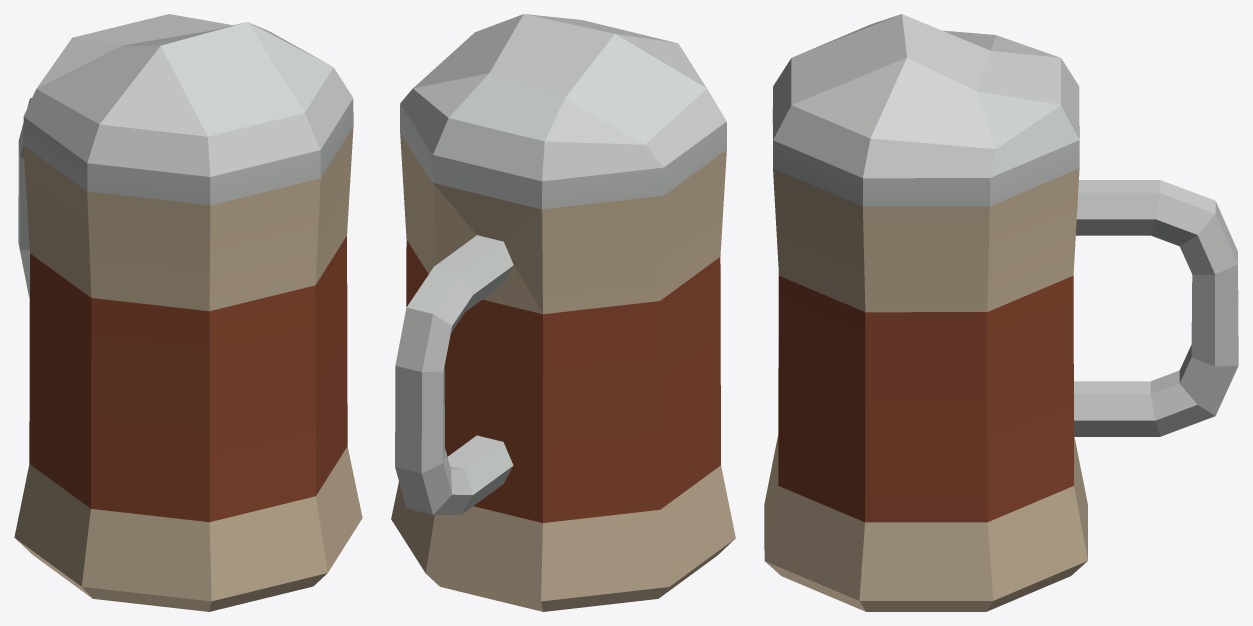
Rendered from SM_Prop_Bar_Glass_04.obj.
The picture shows the model from 3 angles, left to right: view 1: azimuth 30°, elevation 25°; view 2: azimuth 150°, elevation 25°; view 3: azimuth 270°, elevation 25°; orthographic projection.
Parts seen in each view (by area): view 1: SM_Prop_Bar_Glass_04_0; view 2: SM_Prop_Bar_Glass_04_0; view 3: SM_Prop_Bar_Glass_04_0.
Part boxes in pixels (x1,y1,x2,y2): SM_Prop_Bar_Glass_04_0: (14, 14, 362, 611); SM_Prop_Bar_Glass_04_0: (391, 14, 735, 611); SM_Prop_Bar_Glass_04_0: (764, 14, 1238, 611).
Size of the model in its own units: 0.1585 by 0.2795 by 0.2322.
1 material, 1 textured.
